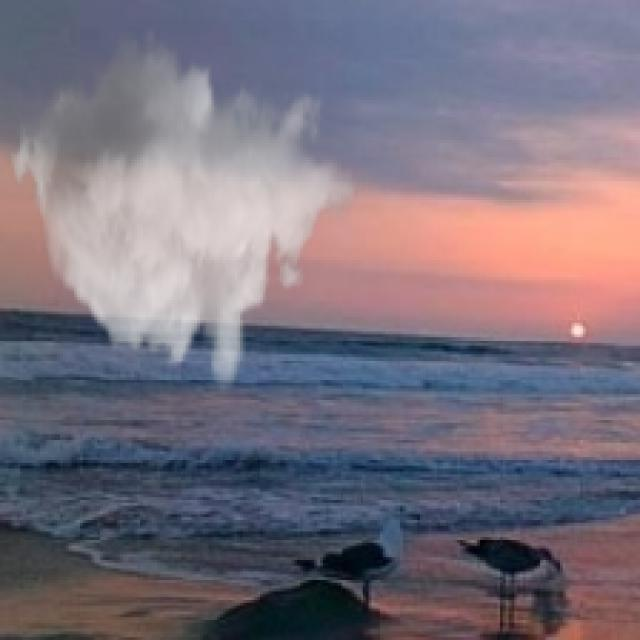Smoke: (6, 19, 357, 392)
